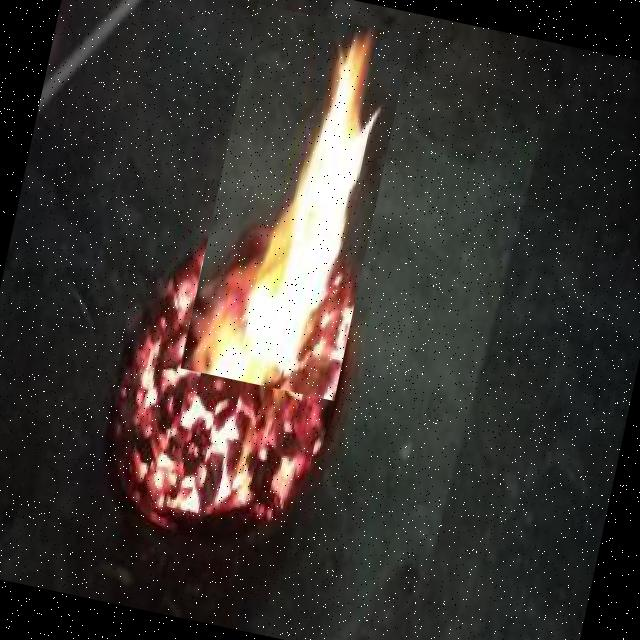fire: (180, 3, 411, 400)
